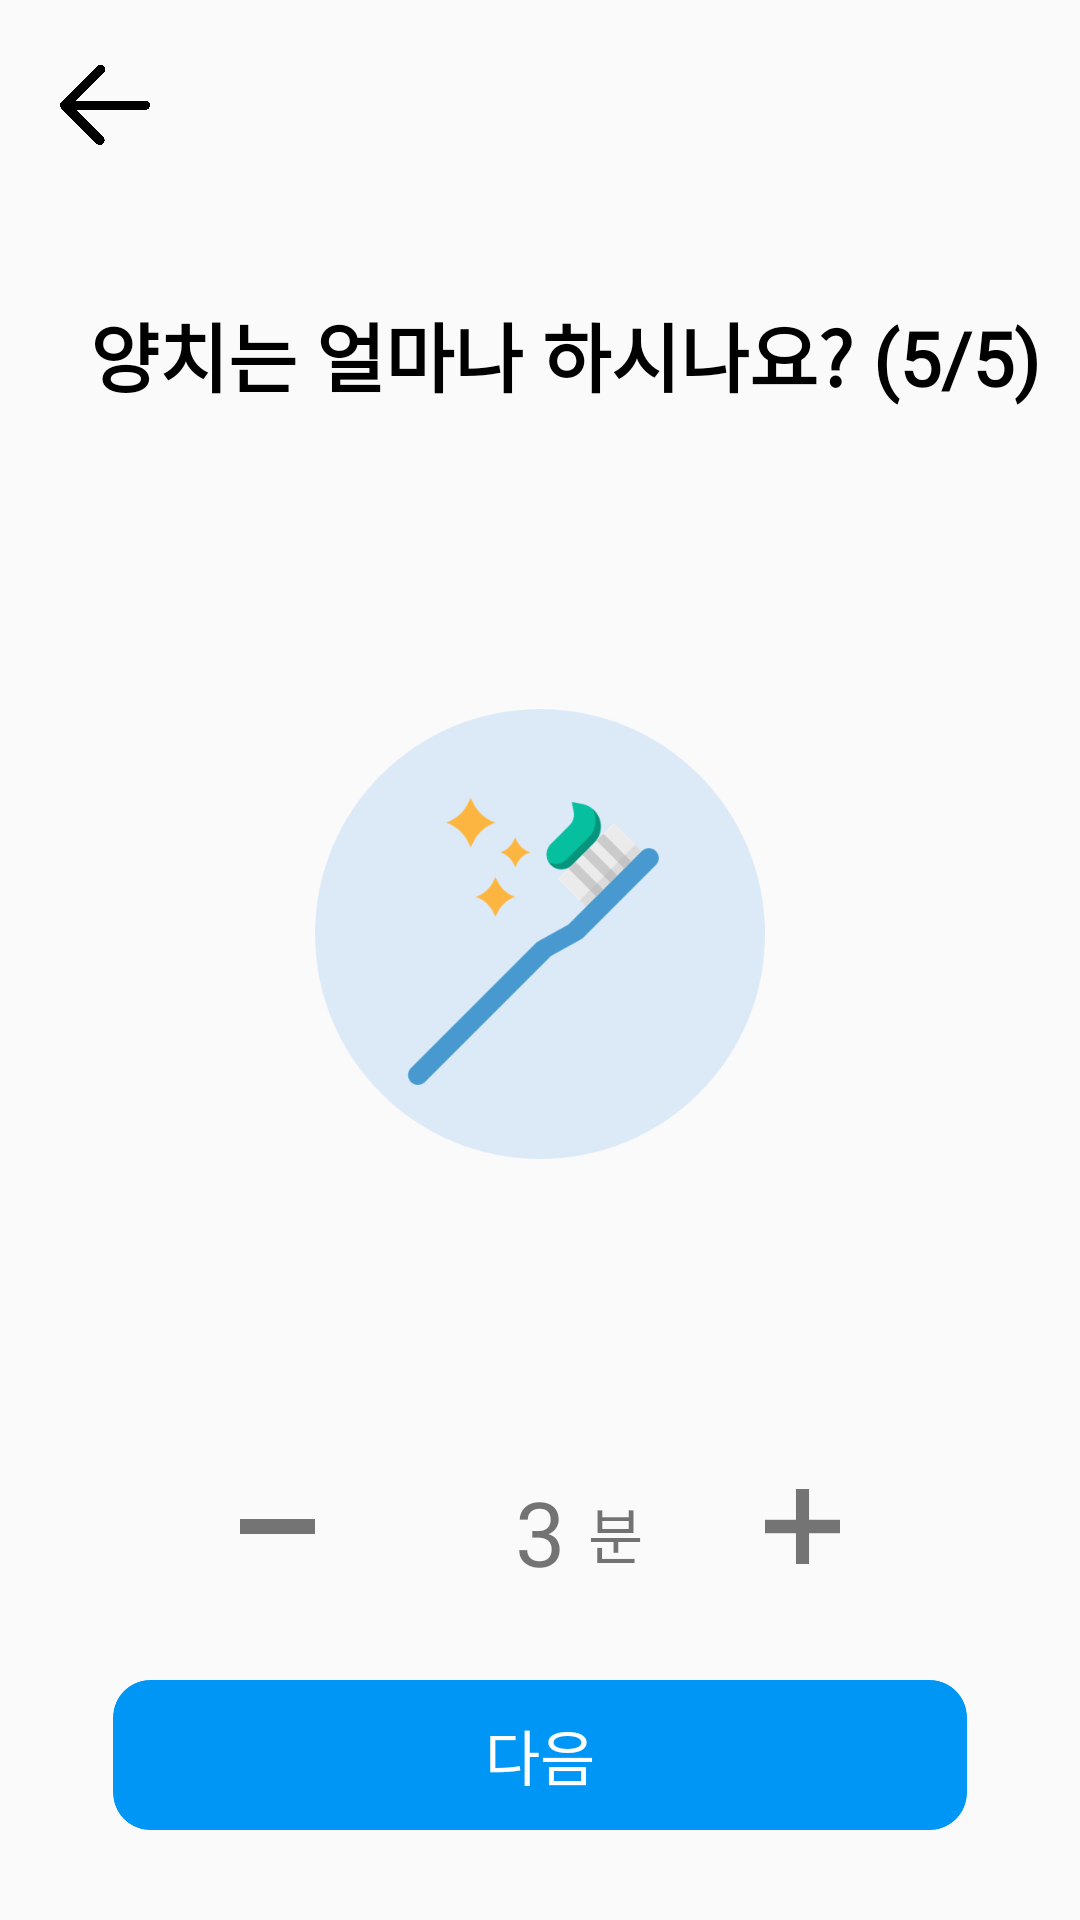

Icons on this 1080 x 1920 Android screen, each with the point to tap as point (x, y):
initial back: point (105, 105)
initial plus: point (802, 1526)
